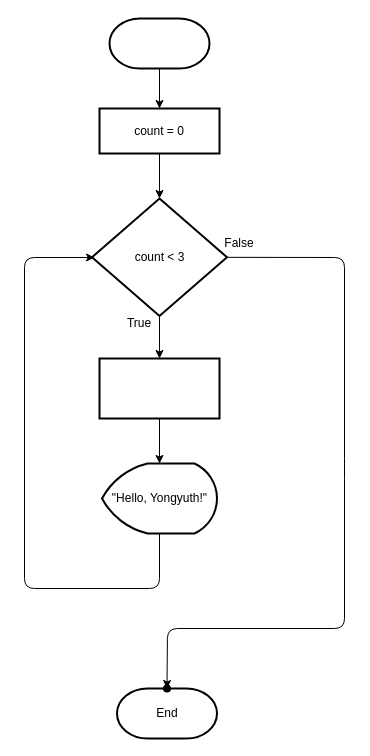
This 370x756 diagram has some shape labels left out. The shapes that lost their labels are listed below. From the top down, each one's centre as x and y in pixels, then its label:
At (x=159, y=43): "Start".
At (x=159, y=388): "count = count + 1".
